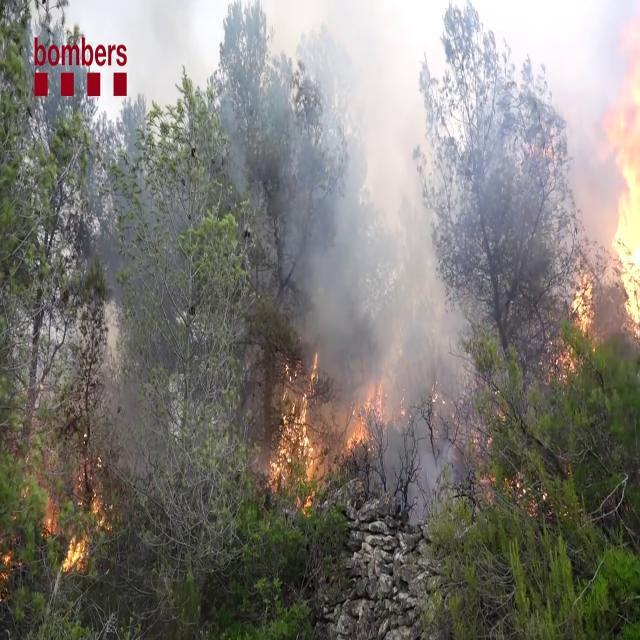Fire: (598, 16, 640, 343), (266, 347, 326, 510), (344, 370, 394, 459)
Smoke: (232, 3, 484, 487)
